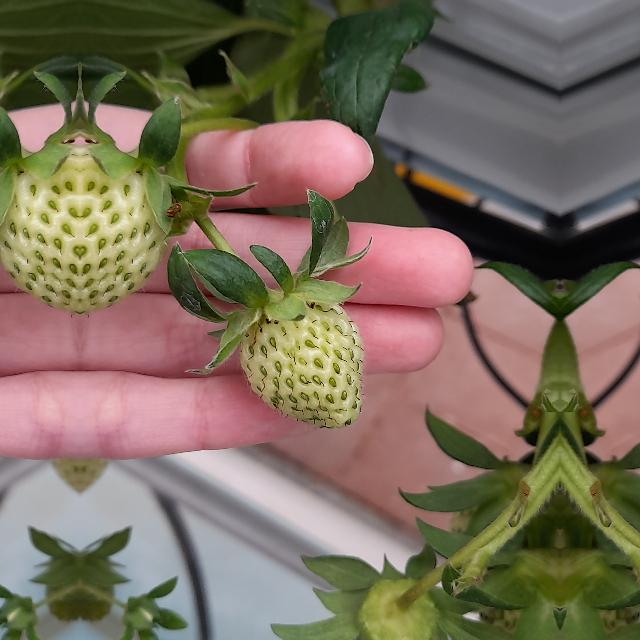Health_25: (80, 140, 172, 320), (238, 304, 364, 428), (0, 140, 80, 319)
